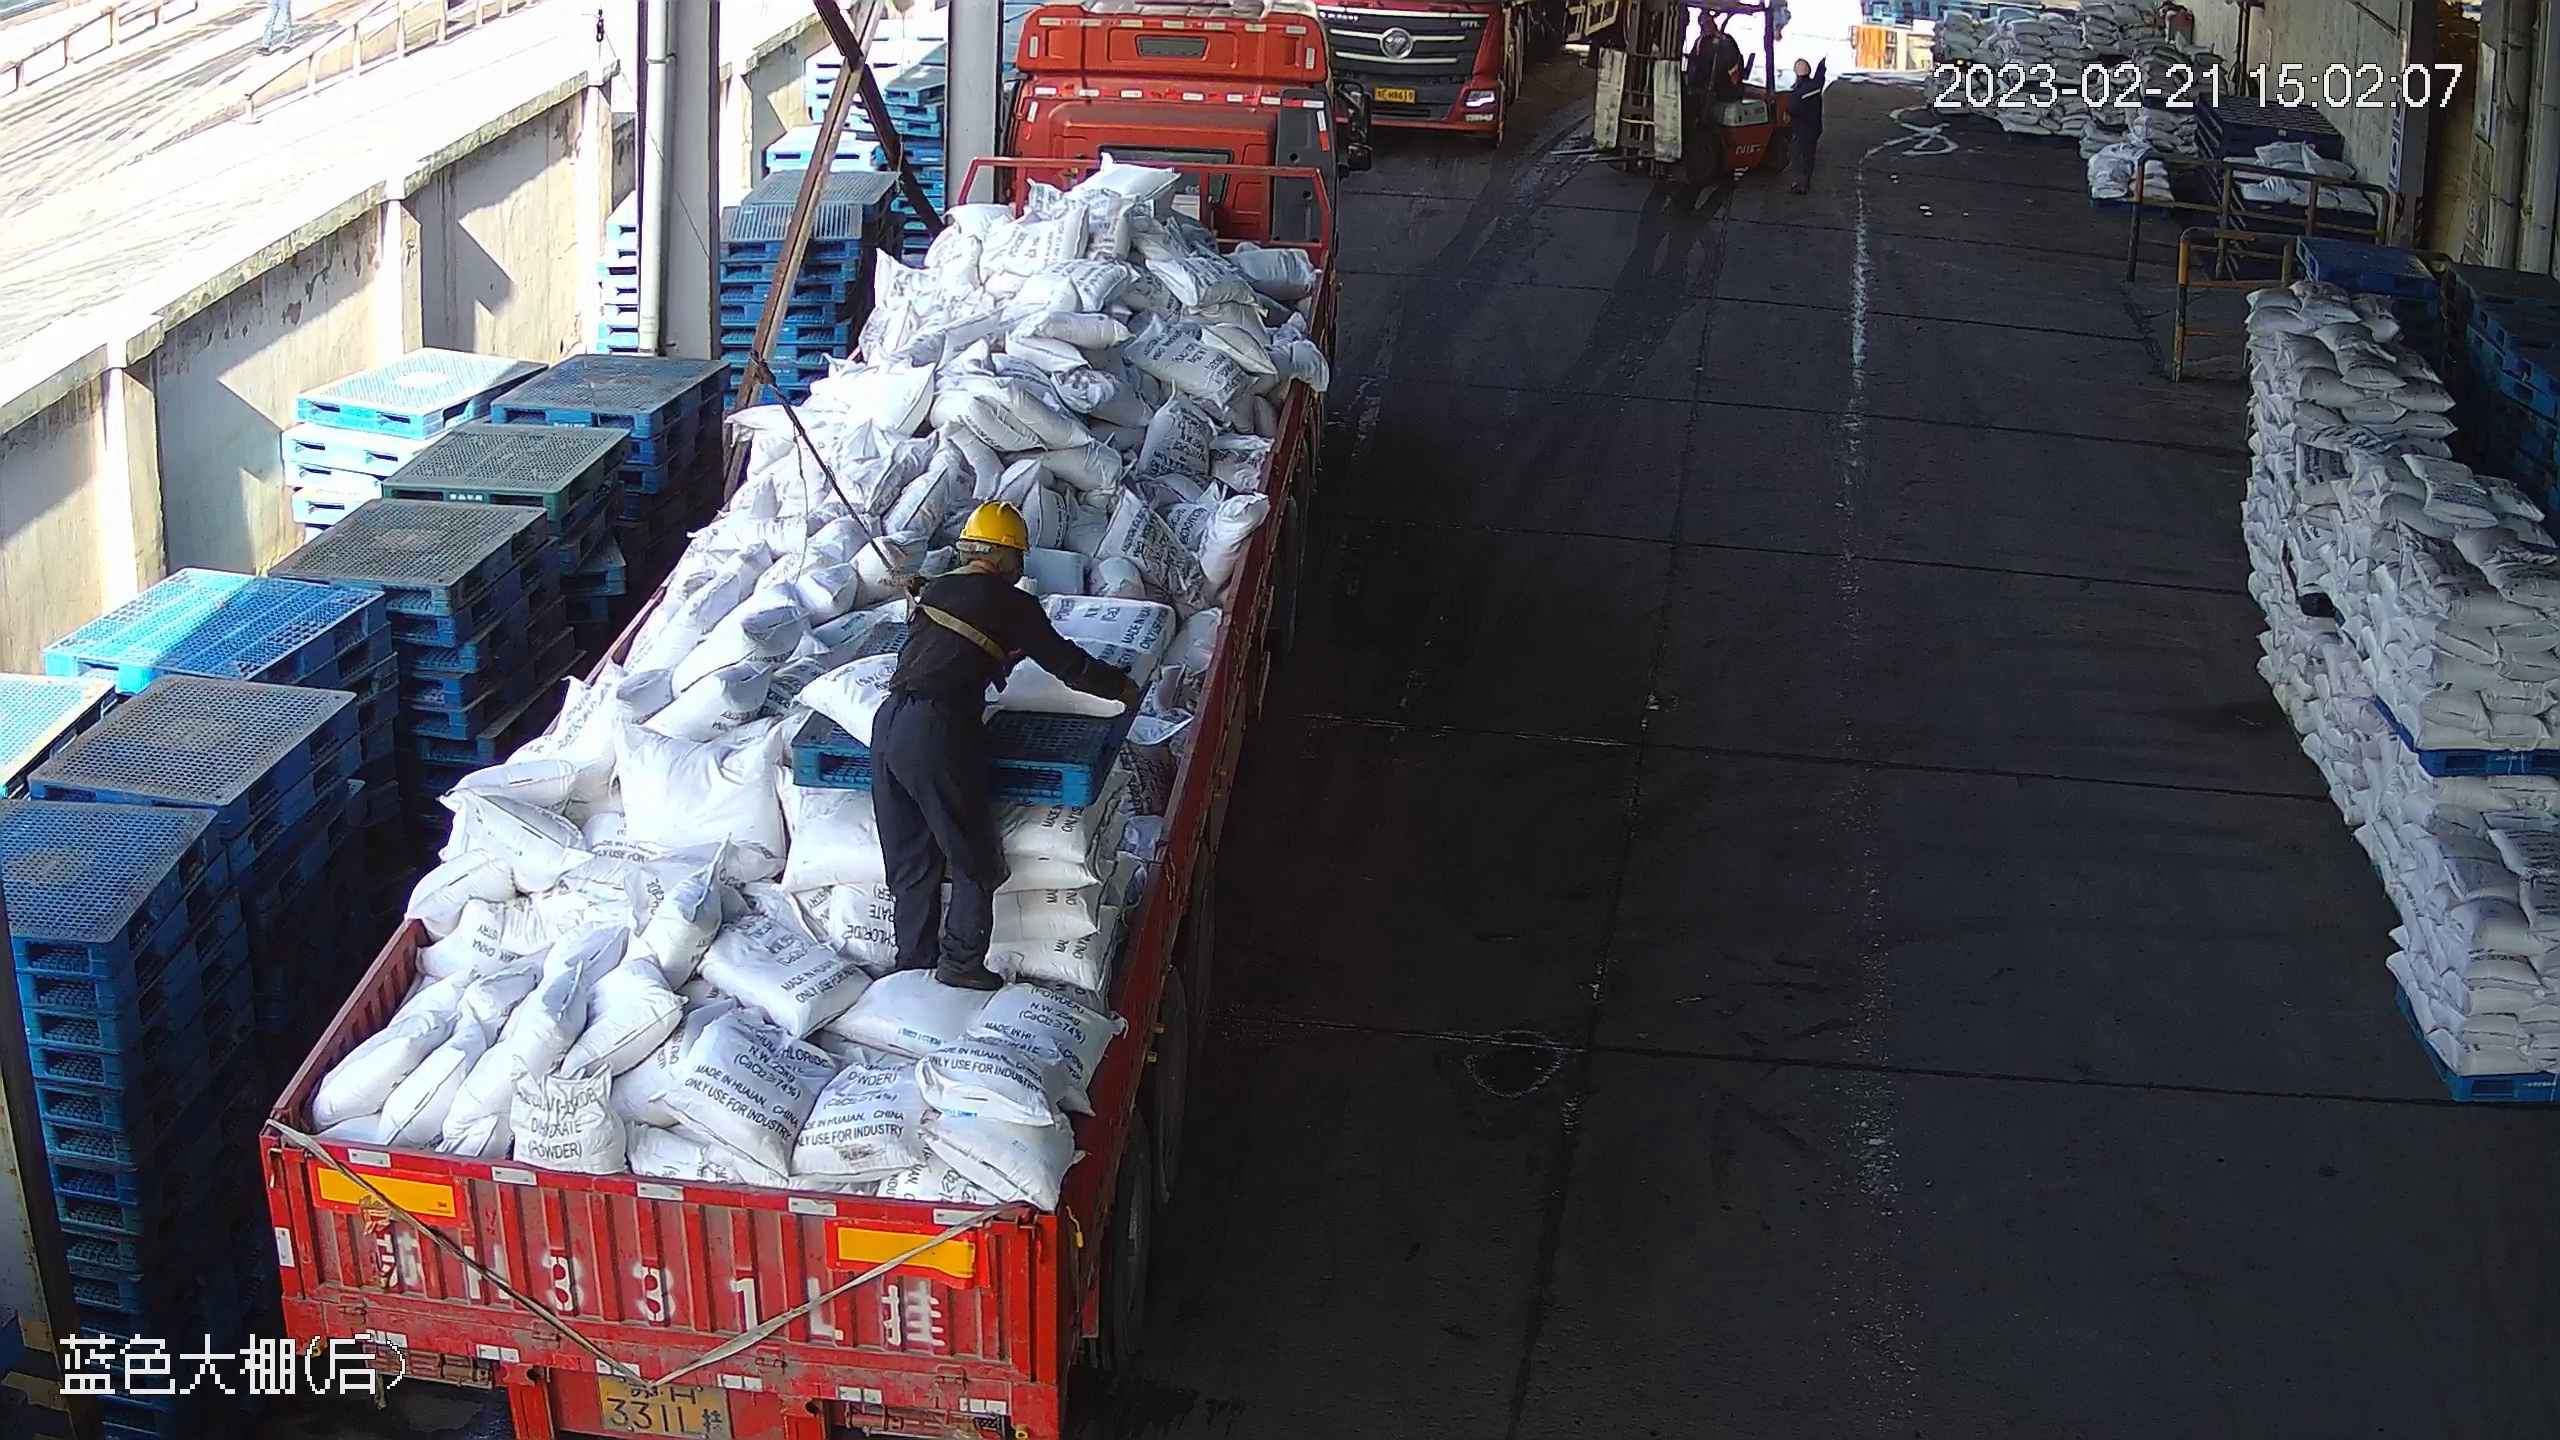belt: (909, 552, 1029, 655)
head: (877, 493, 1072, 640)
helmet: (953, 490, 1036, 549)
people: (864, 495, 1077, 984)
truck: (240, 4, 1348, 1434), (1325, 12, 1542, 156)
